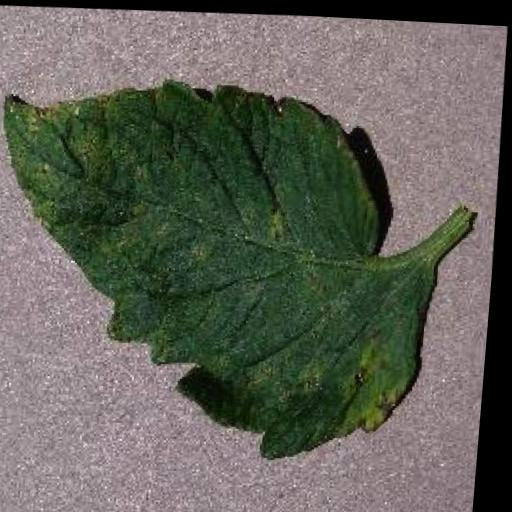Septoria: (0, 62, 460, 471)
